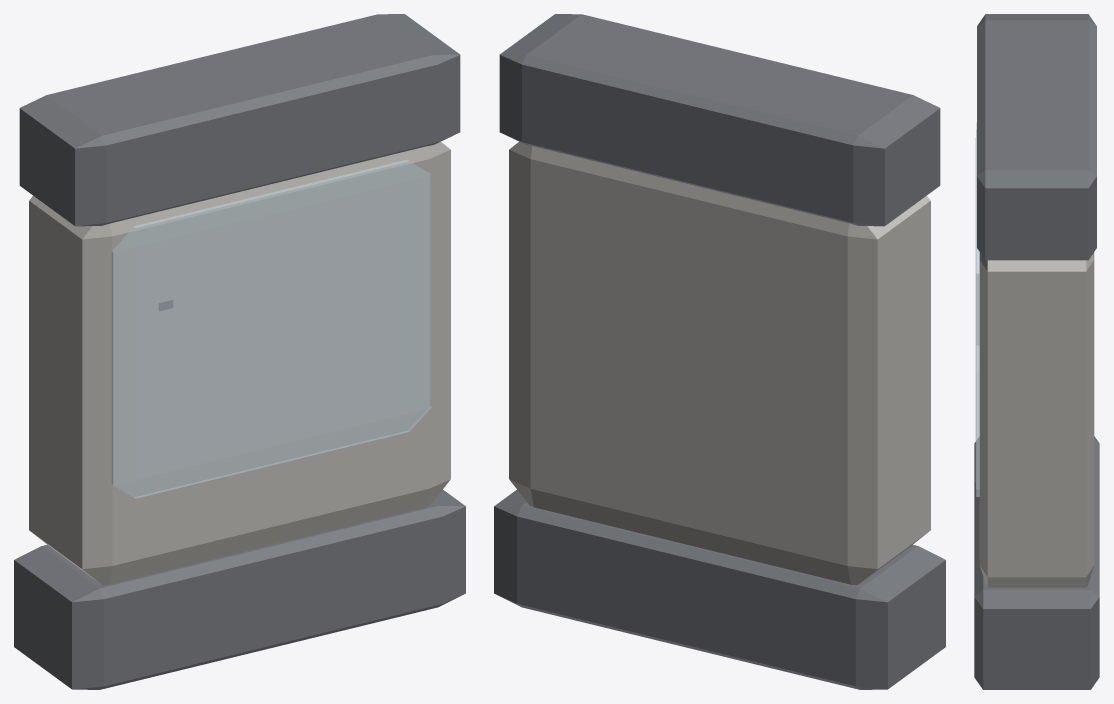
File: b12_limestone_window_surround.glb
3 views of the same model, side by side, from view 1: azimuth 30°, elevation 25°; view 2: azimuth 150°, elevation 25°; view 3: azimuth 270°, elevation 25° (orthographic). The views are drawn at different scales.
Parts seen in each view (by area): view 1: b12_limestone_window_surround; view 2: b12_limestone_window_surround; view 3: b12_limestone_window_surround.
Boxes of the visible parts, x1,y1,x2,y2 form: b12_limestone_window_surround: (14,14,465,689); b12_limestone_window_surround: (494,14,945,689); b12_limestone_window_surround: (974,14,1099,689).
Bounding box in the file's own units: 1.65 × 2.21 × 0.49.
